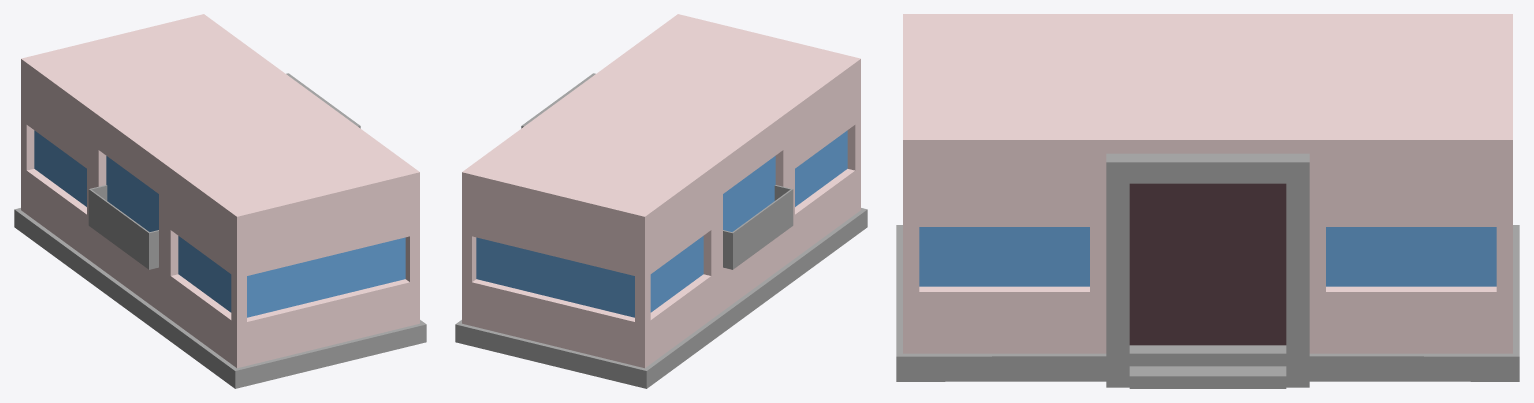
File: building_1x2_3_g.glb
3 renders of one model, left to right at view 1: azimuth 30°, elevation 25°; view 2: azimuth 150°, elevation 25°; view 3: azimuth 270°, elevation 25°, orthographic. The views are drawn at different scales.
Visible parts, largest first — view 1: Cube.001; view 2: Cube.001; view 3: Cube.001.
Boxes of the visible parts, x1=… form: Cube.001: x1=14, y1=14, x2=426, y2=388; Cube.001: x1=455, y1=14, x2=867, y2=388; Cube.001: x1=896, y1=14, x2=1519, y2=388.
Bounding box in the file's own units: 2.05 × 1.6 × 3.78.
